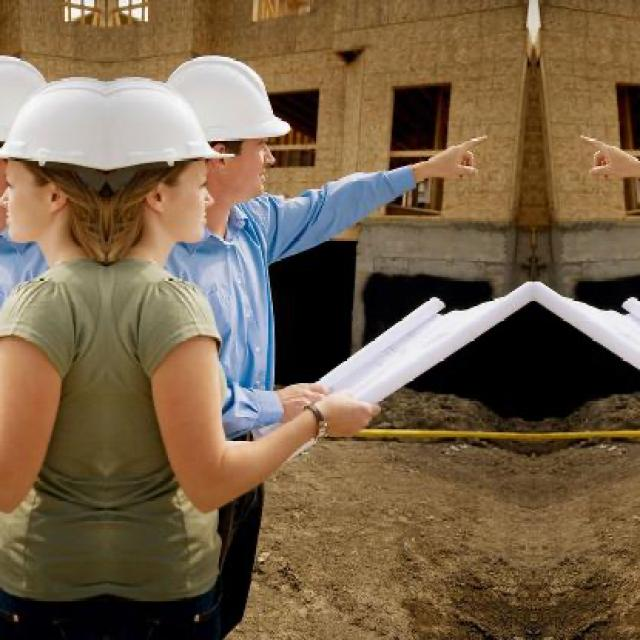con casco: (108, 100, 233, 250), (179, 54, 287, 198), (0, 91, 92, 260)
